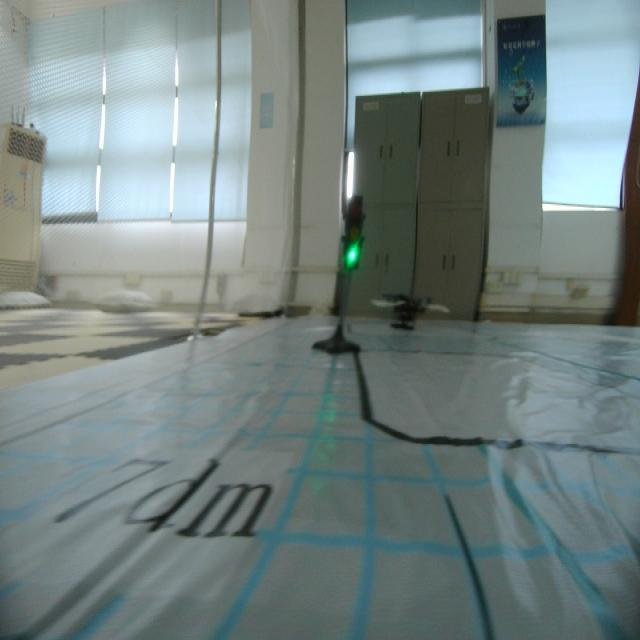green: (338, 193, 368, 277)
